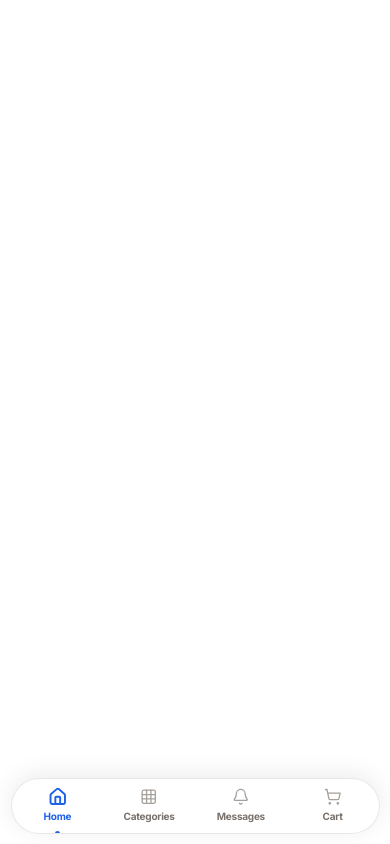
Test case: MobileBottomNav categories sheet › lists fetched categories with their translated names
This screenshot has width=390, height=844.
Click the button "Categories". click: (149,806)
box: 103,778 -> 195,832
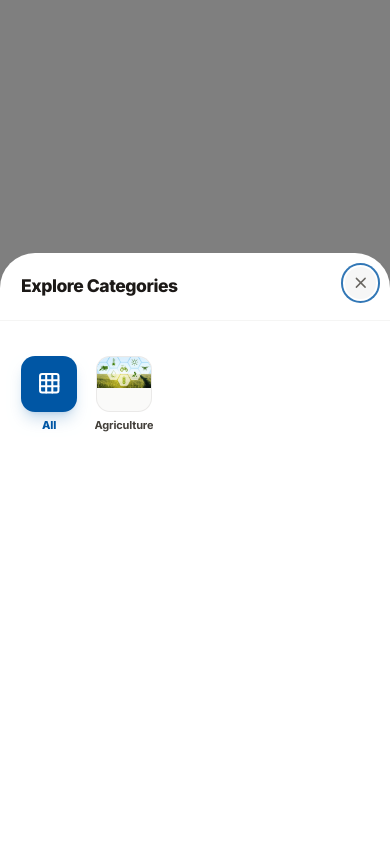
Expected: the text "Agriculture" is shown, 94,419 -> 153,432
